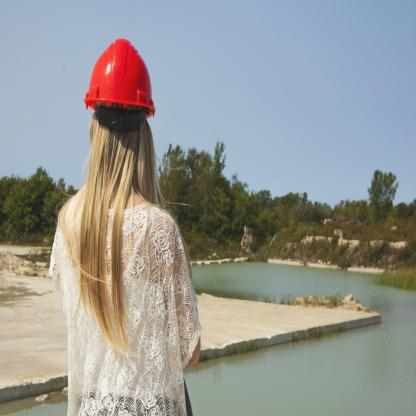Helmet: (79, 39, 156, 138)
